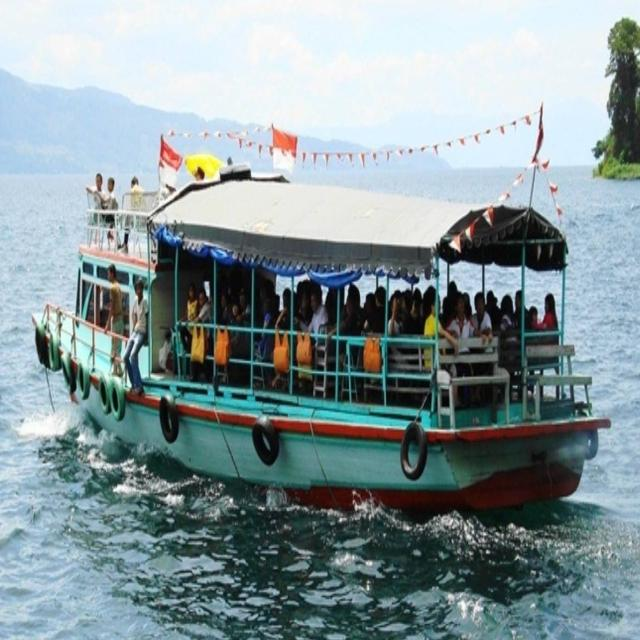passenger ship: (22, 115, 614, 504)
